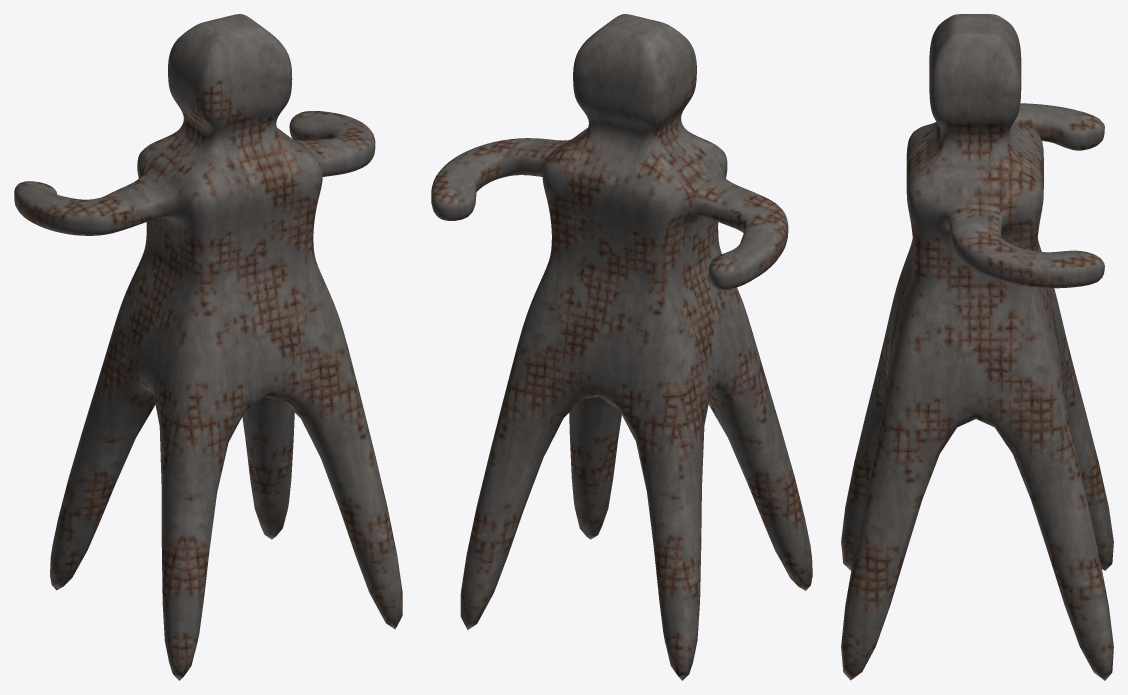
The model's file is Scp173.gltf.
3 views of the same model, side by side, from view 1: azimuth 30°, elevation 25°; view 2: azimuth 150°, elevation 25°; view 3: azimuth 270°, elevation 25° (orthographic). The views are drawn at different scales.
Visible parts, largest first — view 1: Cube; view 2: Cube; view 3: Cube.
Part boxes in pixels (box(x1,y1,x2,y2)): Cube: box(14, 14, 402, 680); Cube: box(431, 14, 812, 680); Cube: box(841, 14, 1113, 680).
Bounding box in the file's own units: 3.12 × 5.27 × 2.15.
Materials: 1 (1 with a texture image).
